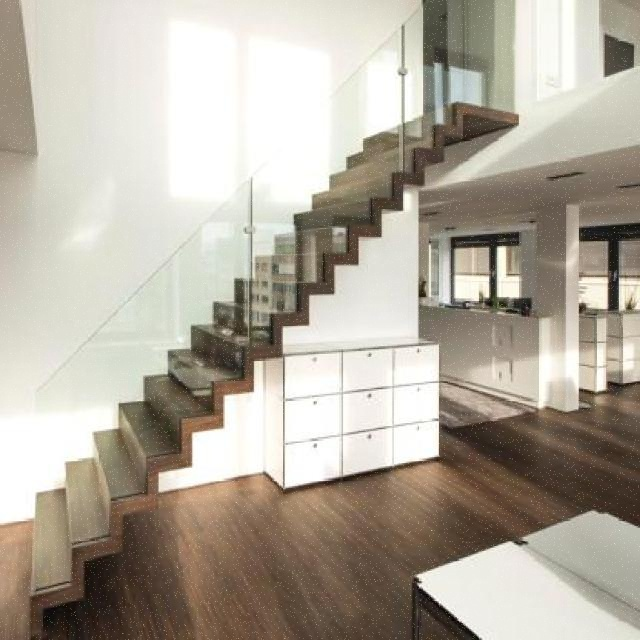stair: (4, 72, 522, 639)
